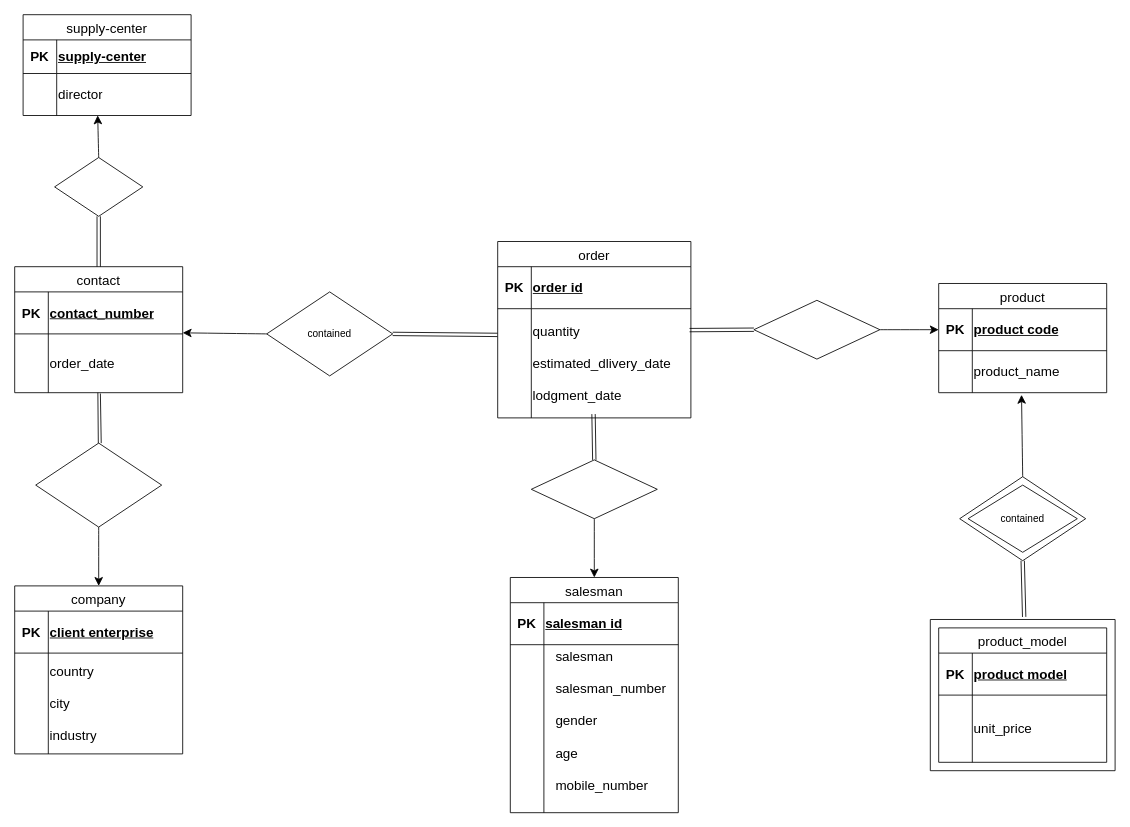
This 1130x827 diagram has some shape labels left out. The centre of each missing label's shape, as x and y in pixels:
"orders" goes at point 816,329.
"sell by" goes at point 593,489.
"sell to" goes at point 98,484.
"supply" goes at point 98,186.
